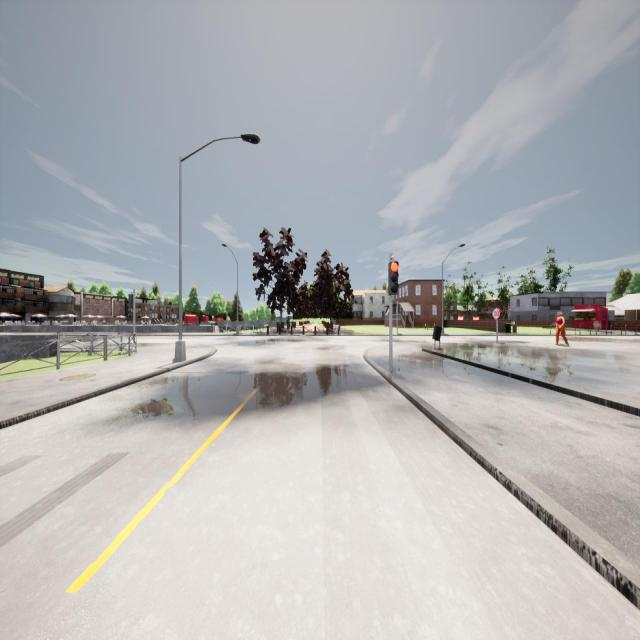Pedestrian: (556, 311, 568, 346), (285, 316, 291, 334)
Traffic_Signs: (492, 308, 502, 319)
traffic_light: (388, 261, 399, 295), (128, 294, 133, 309)
